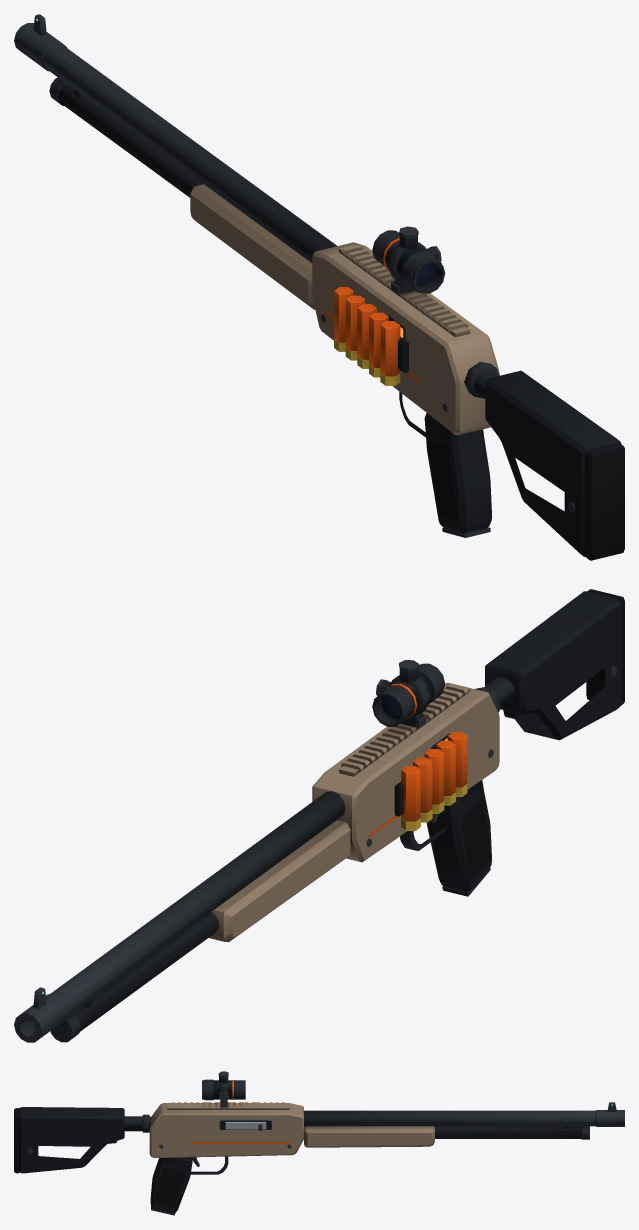
File: benelli-m4.glb
3 views of the same model, one above another, from view 1: azimuth 30°, elevation 25°; view 2: azimuth 150°, elevation 25°; view 3: azimuth 270°, elevation 25° (orthographic). The views are drawn at different scales.
Parts seen in each view (by area): view 1: body_polymer, body_steel, body_frame, body_rubber, bolt_furn, body_frame2, body_accent; view 2: body_polymer, body_steel, body_frame, bolt_furn, body_frame2, body_accent, body_rubber, body_brass; view 3: body_frame, body_steel, body_polymer, bolt_furn, body_frame2, body_rubber, bolt_bolt, body_accent.
Boxes of the visible parts, x1=… form: body_polymer: x1=398, y1=336, x2=621, y2=556; body_steel: x1=14, y1=14, x2=575, y2=512; body_frame: x1=312, y1=242, x2=499, y2=435; body_rubber: x1=428, y1=439, x2=624, y2=560; bolt_furn: x1=190, y1=184, x2=315, y2=309; body_frame2: x1=49, y1=77, x2=499, y2=537; body_accent: x1=324, y1=237, x2=418, y2=382; body_polymer: x1=394, y1=591, x2=621, y2=891; body_steel: x1=14, y1=660, x2=617, y2=1042; body_frame: x1=312, y1=682, x2=499, y2=862; bolt_furn: x1=209, y1=820, x2=350, y2=941; body_frame2: x1=50, y1=663, x2=515, y2=1042; body_accent: x1=368, y1=684, x2=467, y2=837; body_rubber: x1=461, y1=589, x2=624, y2=880; body_brass: x1=401, y1=784, x2=467, y2=830; body_frame: x1=149, y1=1102, x2=303, y2=1157; body_steel: x1=27, y1=1071, x2=624, y2=1166; body_polymer: x1=18, y1=1107, x2=270, y2=1212; bolt_furn: x1=304, y1=1126, x2=434, y2=1147; body_frame2: x1=124, y1=1076, x2=589, y2=1215; body_rubber: x1=14, y1=1108, x2=185, y2=1207; bolt_bolt: x1=225, y1=1122, x2=266, y2=1129; body_accent: x1=190, y1=1080, x2=289, y2=1143.
Size of the model in its own units: 0.0828 by 0.2635 by 1.05.
